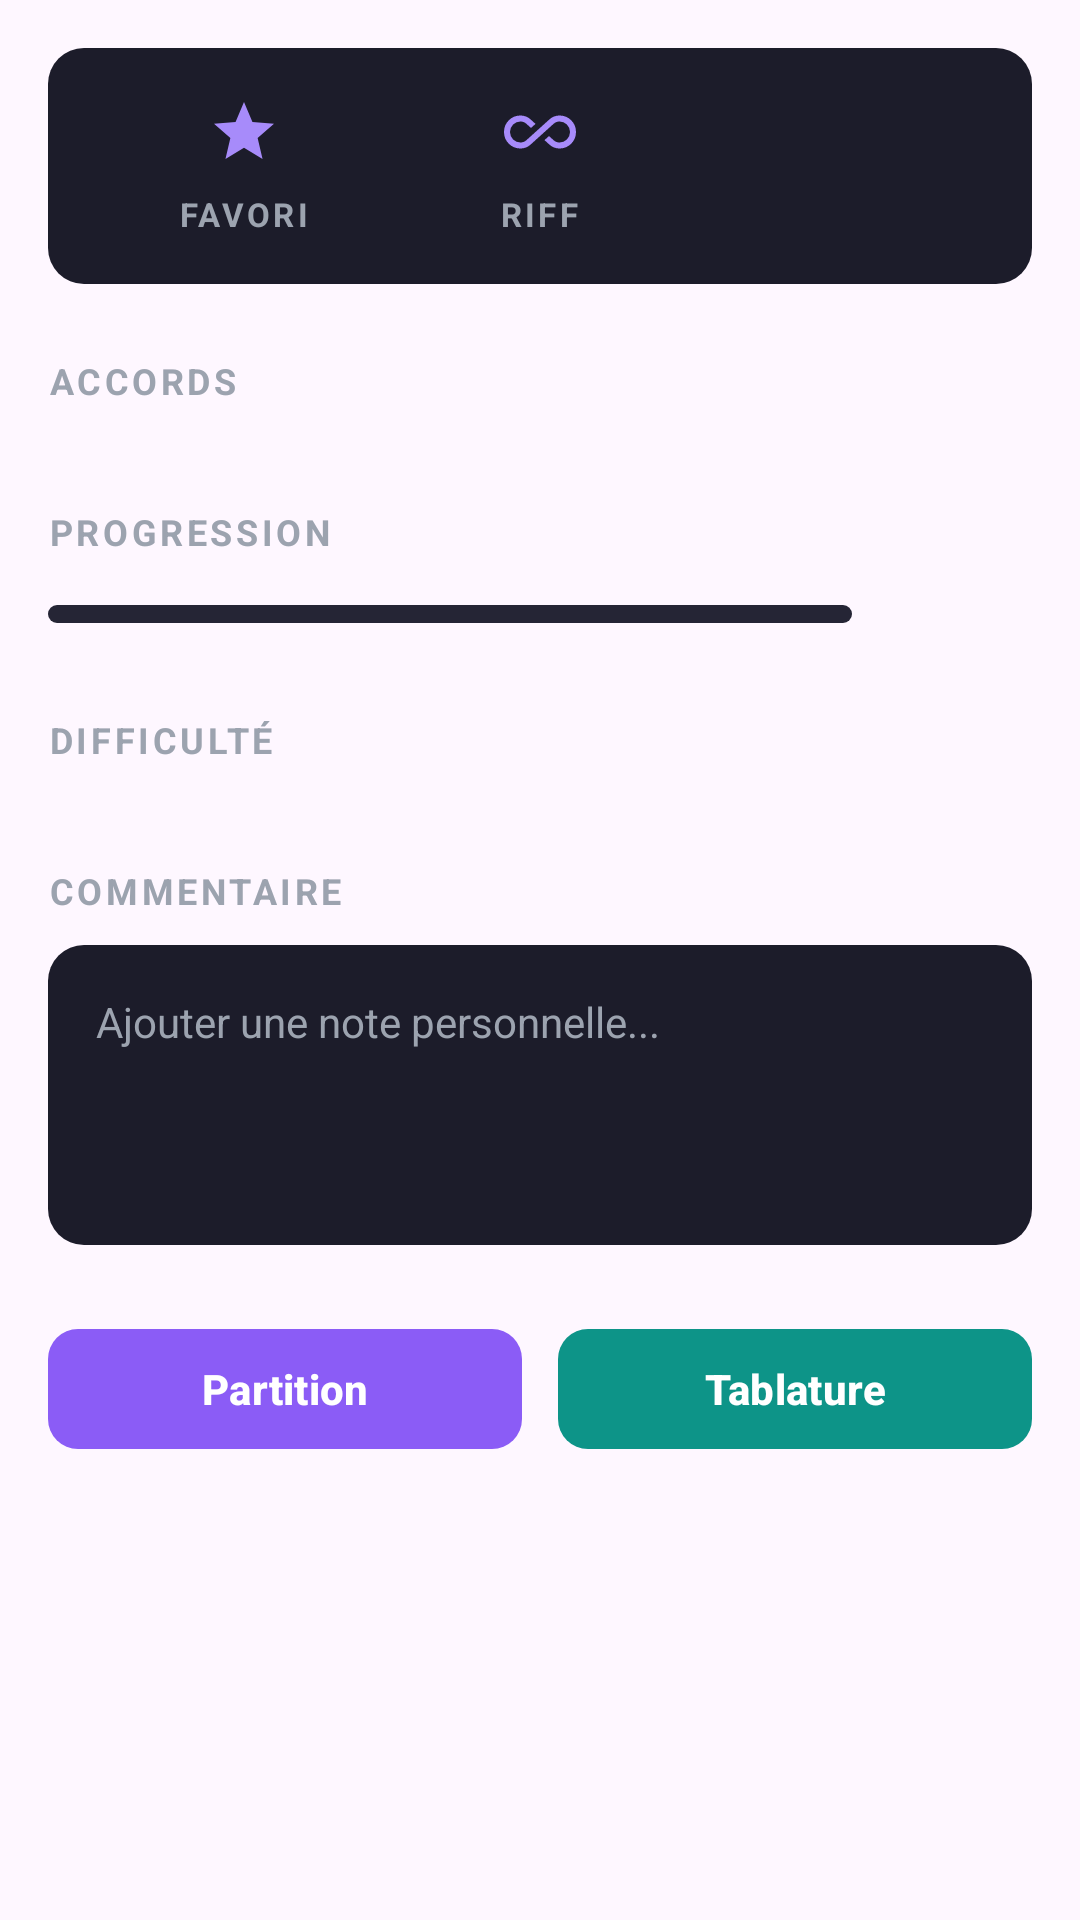

Screen size 1080x1920. Icon name, then its center in pixels as (x,y):
star: (244,130)
